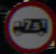Heavy Vehicles: (1, 5, 50, 44)
